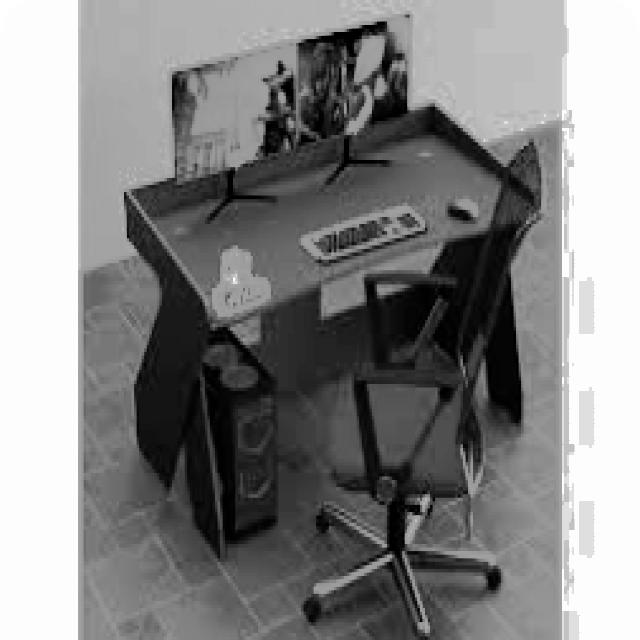book: (298, 138, 546, 636)
table: (121, 100, 544, 558)
